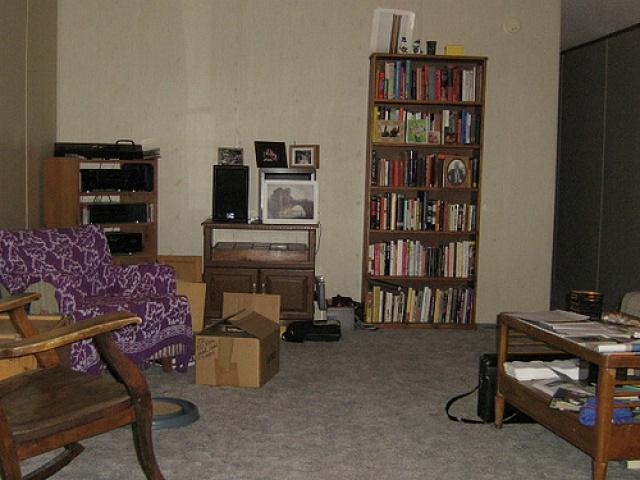Kursi: (0, 292, 167, 479)
Meja: (492, 309, 639, 479)
Rak: (358, 51, 488, 330)
